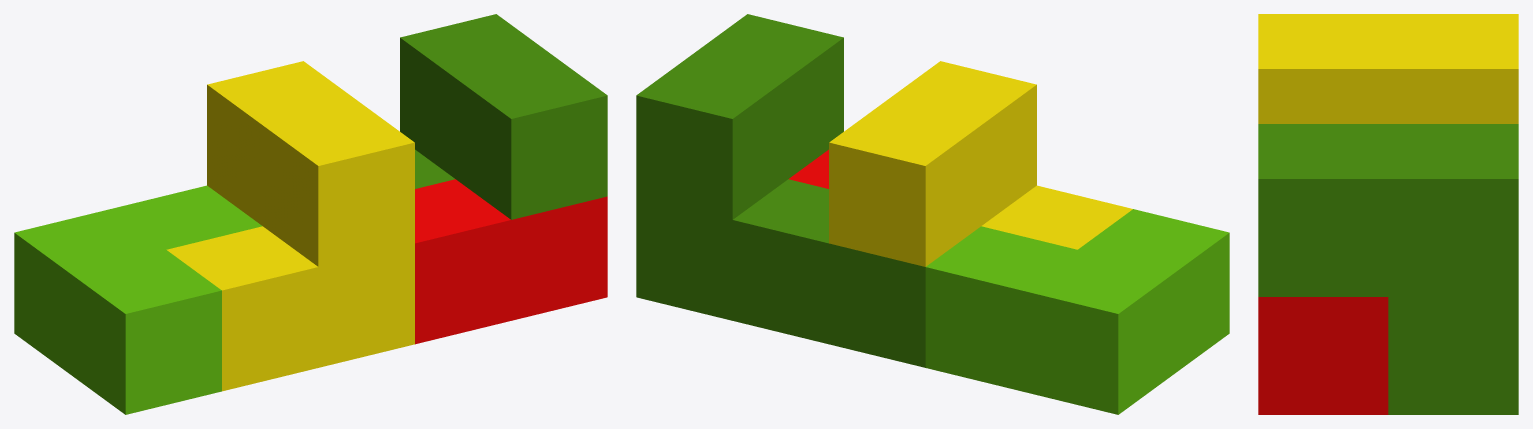
3 views of the same model, side by side, from view 1: azimuth 30°, elevation 25°; view 2: azimuth 150°, elevation 25°; view 3: azimuth 270°, elevation 25° (orthographic). The views are drawn at different scales.
Parts seen in each view (by area): view 1: mergedBlocks(Clone); view 2: mergedBlocks(Clone); view 3: mergedBlocks(Clone).
Boxes of the visible parts, <box> form: mergedBlocks(Clone): <box>14,14,607,414</box>; mergedBlocks(Clone): <box>636,14,1229,414</box>; mergedBlocks(Clone): <box>1258,14,1518,414</box>.
Bounding box in the file's own units: 5 × 2 × 2.
Materials: 4 (4 with a texture image).
